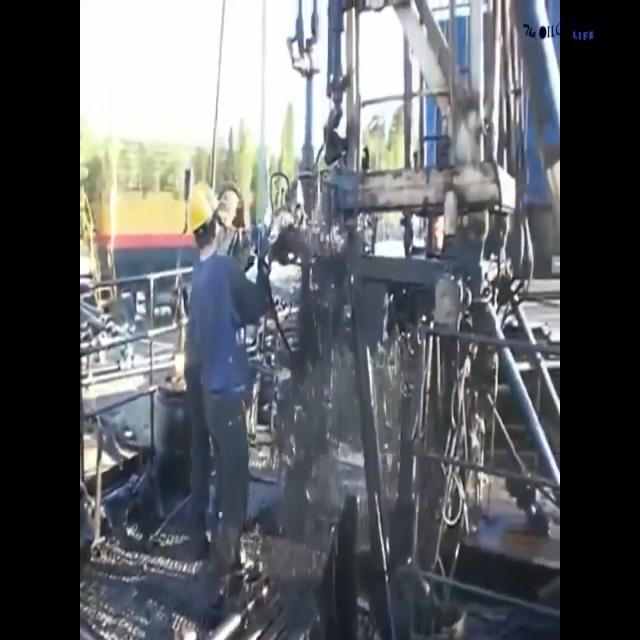spillage: (279, 272, 335, 548)
